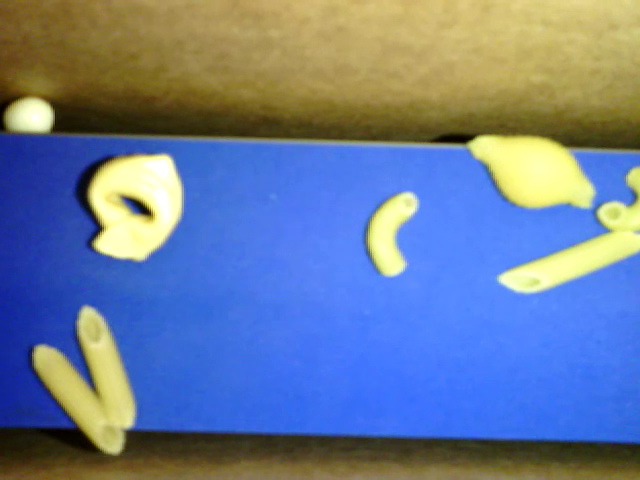elbow: (366, 191, 418, 277), (595, 165, 639, 235)
penne: (32, 343, 124, 456), (496, 231, 639, 295), (76, 304, 135, 430)
shell: (467, 134, 597, 210)
tortellini: (88, 153, 185, 264)
